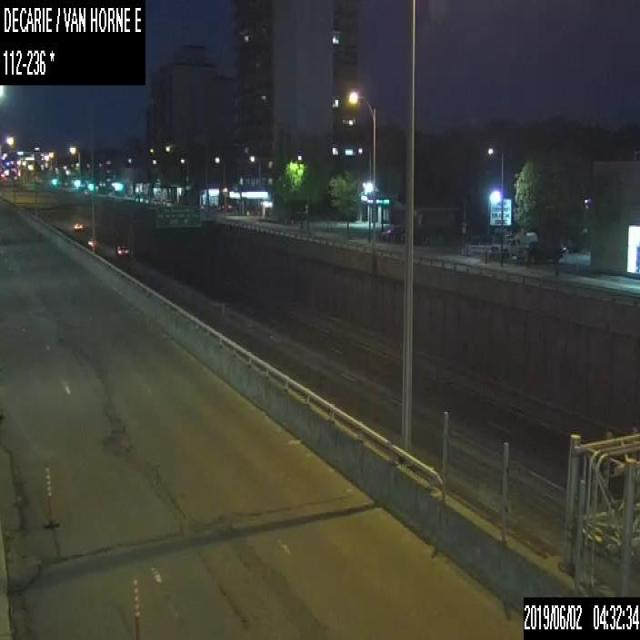construction: (43, 467, 59, 529), (131, 574, 140, 638)
vehicle: (114, 241, 128, 256), (85, 236, 98, 248), (73, 221, 83, 230)
